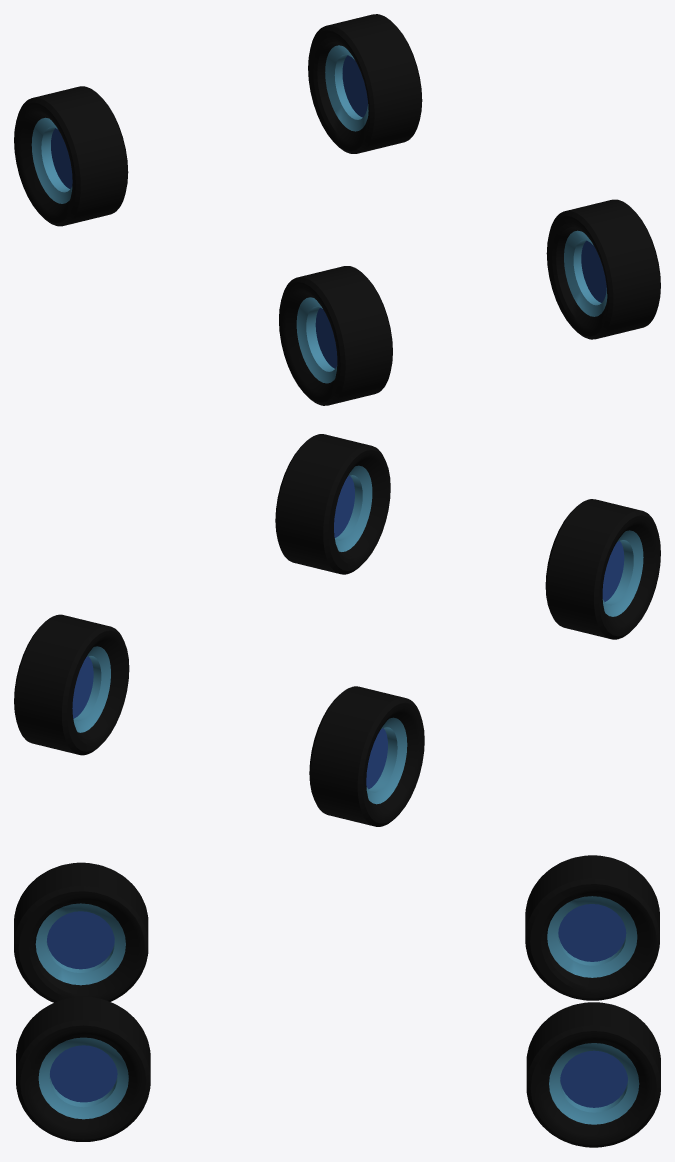
Rendered from Wheel.fbx.
3 views of the same model, one above another, from view 1: azimuth 30°, elevation 25°; view 2: azimuth 150°, elevation 25°; view 3: azimuth 270°, elevation 25° (orthographic). The views are drawn at different scales.
Visible parts, largest first — view 1: Roda_DT, Roda_EF, Roda_ET, Roda_DF; view 2: Roda_EF, Roda_DT, Roda_DF, Roda_ET; view 3: Roda_EF, Roda_DF, Roda_DT, Roda_ET.
Boxes of the visible parts, x1=… form: Roda_DT: x1=546, y1=199, x2=660, y2=339; Roda_EF: x1=14, y1=86, x2=128, y2=226; Roda_ET: x1=279, y1=266, x2=392, y2=405; Roda_DF: x1=308, y1=14, x2=422, y2=153; Roda_EF: x1=309, y1=686, x2=424, y2=826; Roda_DT: x1=275, y1=434, x2=390, y2=574; Roda_DF: x1=14, y1=614, x2=129, y2=755; Roda_ET: x1=545, y1=499, x2=660, y2=639; Roda_EF: x1=525, y1=855, x2=659, y2=1000; Roda_DF: x1=526, y1=1002, x2=660, y2=1147; Roda_DT: x1=16, y1=997, x2=150, y2=1141; Roda_ET: x1=14, y1=862, x2=148, y2=1002.
Bounding box in the file's own units: 596 × 196 × 942.
